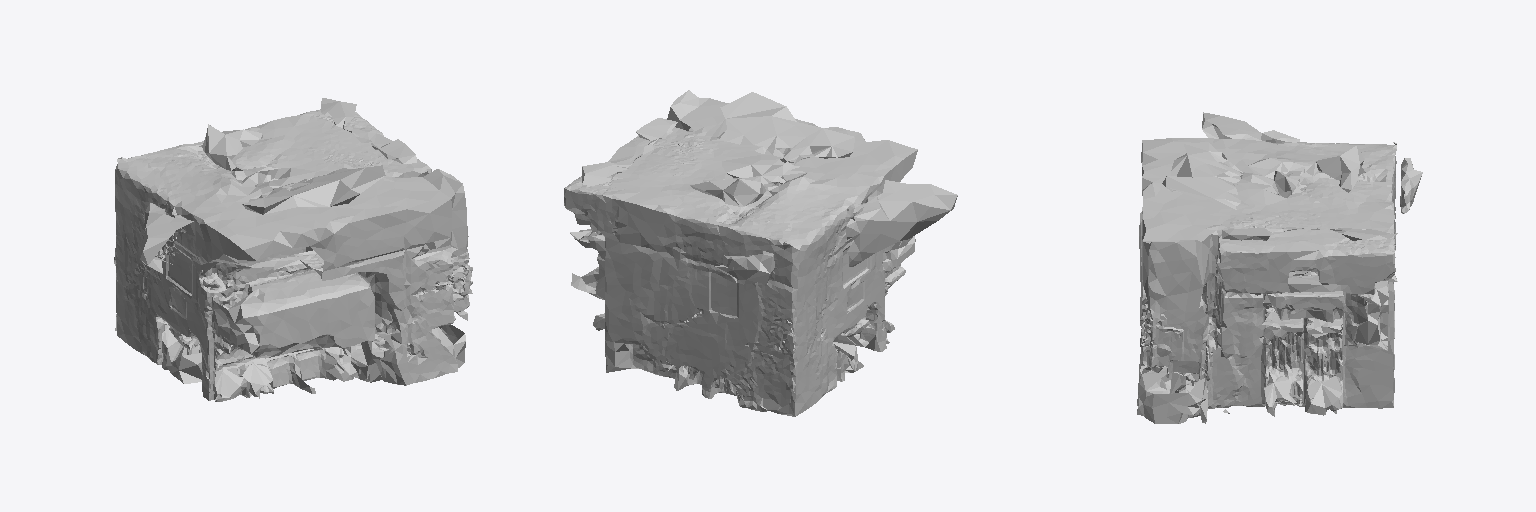
Rendered from Beaty Bedroom 2.obj.
3 views of the same model, side by side, from view 1: azimuth 30°, elevation 25°; view 2: azimuth 150°, elevation 25°; view 3: azimuth 270°, elevation 25° (orthographic).
Parts seen in each view (by area): view 1: mesh_simple_rotated_0, mesh_simple_rotated_1; view 2: mesh_simple_rotated_0, mesh_simple_rotated_1; view 3: mesh_simple_rotated_0, mesh_simple_rotated_1.
Part boxes in pixels (x1,y1,x2,y2): mesh_simple_rotated_0: (114,98,472,401); mesh_simple_rotated_1: (240,246,467,385); mesh_simple_rotated_0: (564,90,957,416); mesh_simple_rotated_1: (570,214,708,395); mesh_simple_rotated_0: (1139,112,1422,367); mesh_simple_rotated_1: (1137,265,1397,423).
Size of the model in its own units: 4.86 by 3.25 by 3.98.